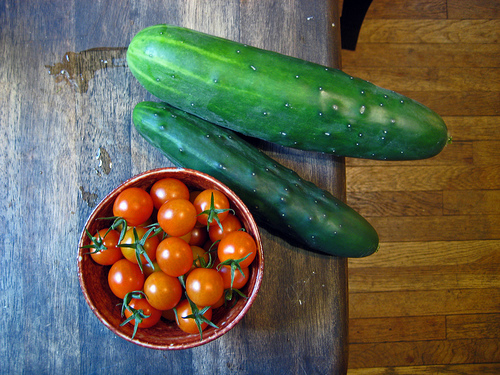cucumber: (127, 25, 449, 162), (128, 100, 386, 263)
